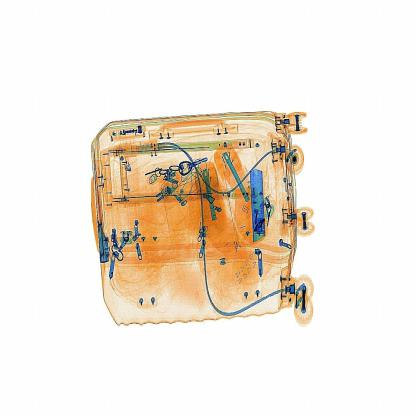pliers: (244, 164, 273, 258)
